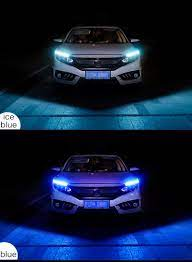headlight: (53, 43, 141, 66), (51, 174, 141, 196)
